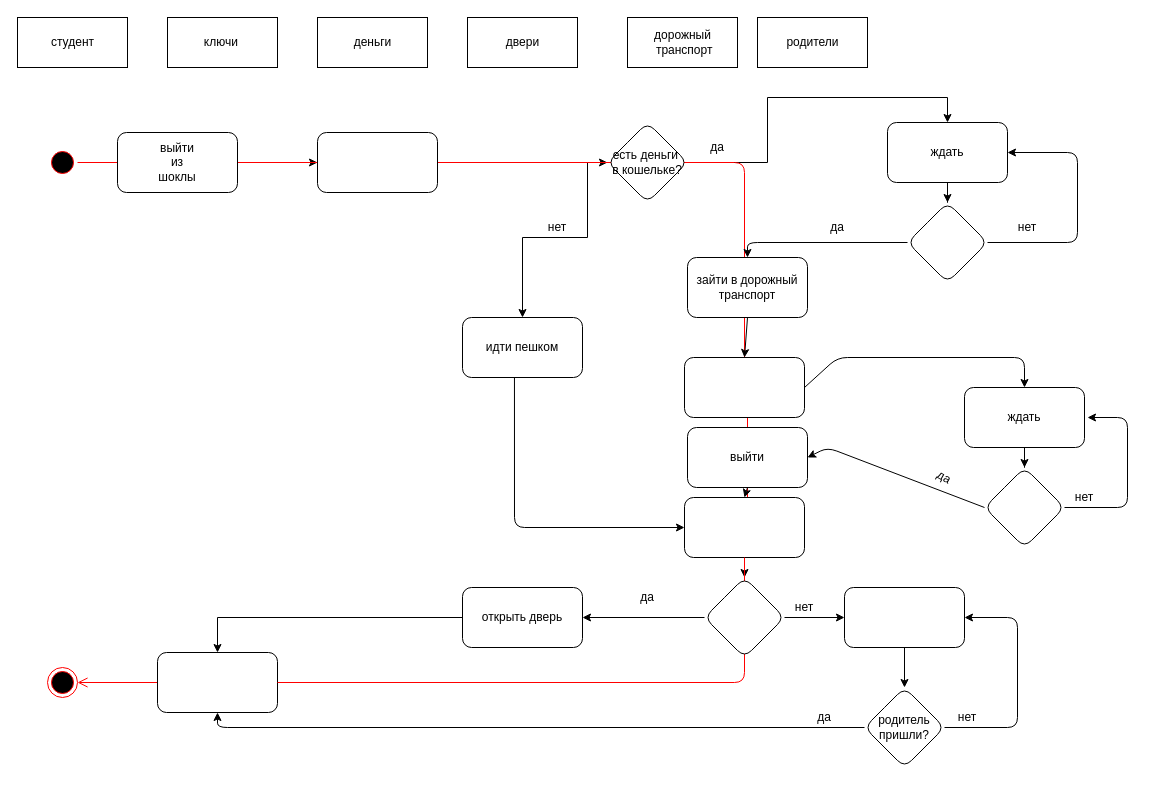
The diagram is 1153 pixels wide and 785 high, and some of its shapes have lost their labels. Here are the shapes that lost their labels. From the top down, the centre of each, then its label:
point (377, 162): идти на остановку
point (947, 242): водитель приехал?
point (744, 387): отдать деньги водителю
point (744, 527): подойти к двери дома
point (1024, 507): водитель приехал к нужной остановке
point (744, 617): проверить наличие ключей
point (904, 617): ждать родителей
point (217, 682): зайти в дом
